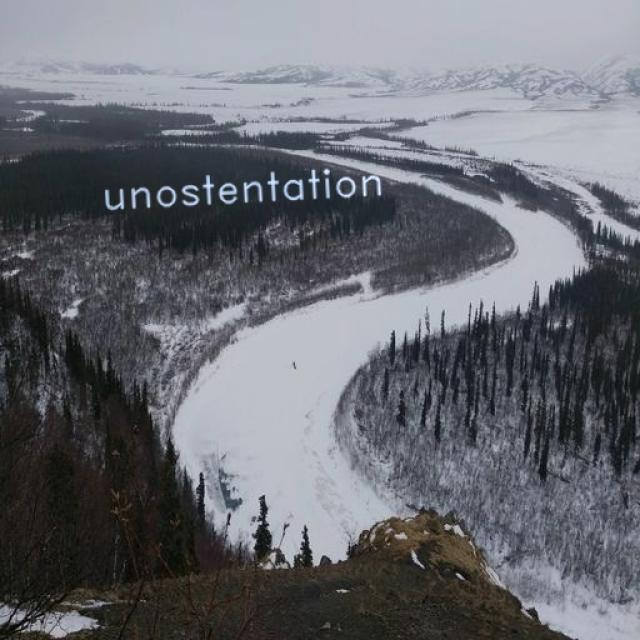watermark: (92, 164, 384, 216)
